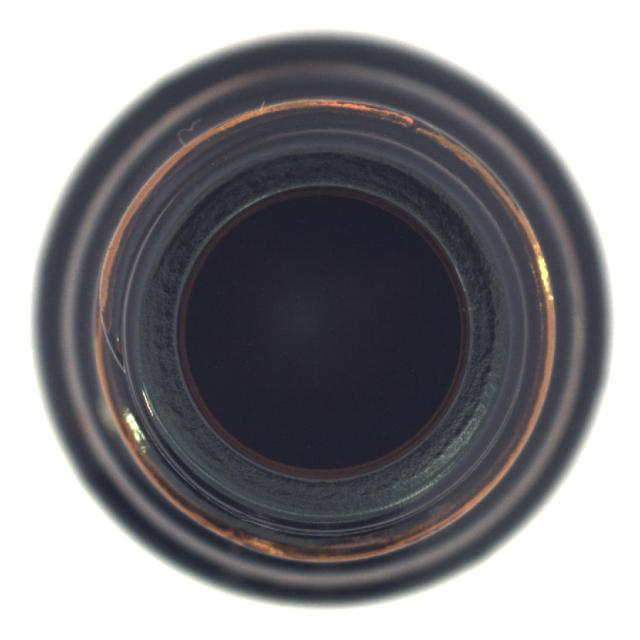bottle-good: (30, 32, 600, 605)
